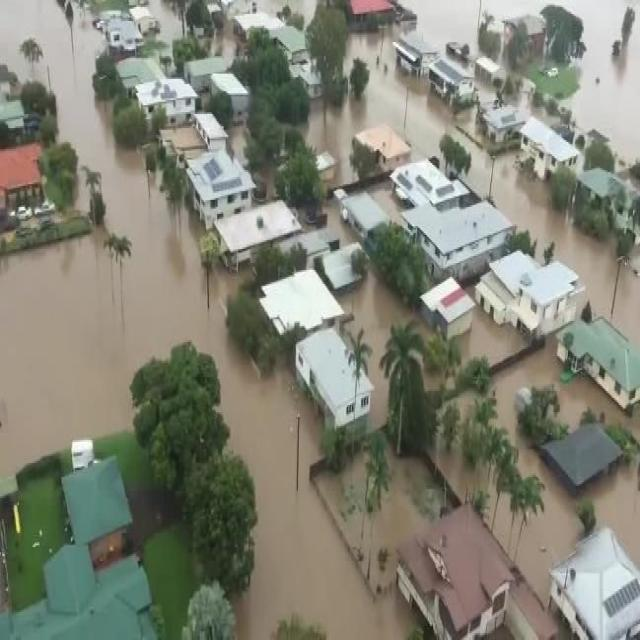flooded_areas: (13, 6, 630, 616)
